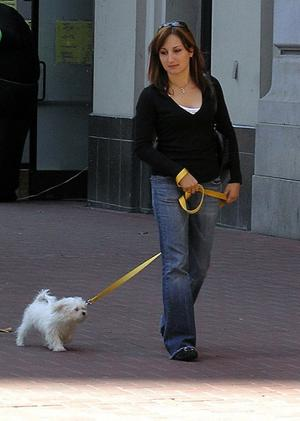person: (134, 24, 241, 354)
